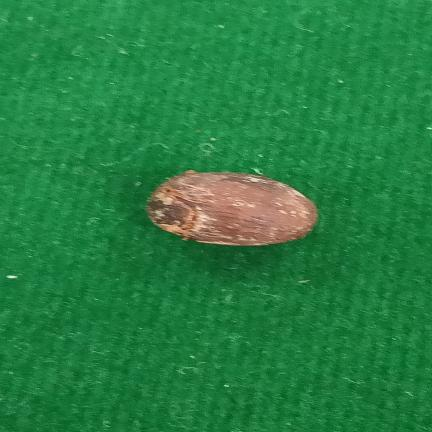husk: (146, 170, 318, 246)
